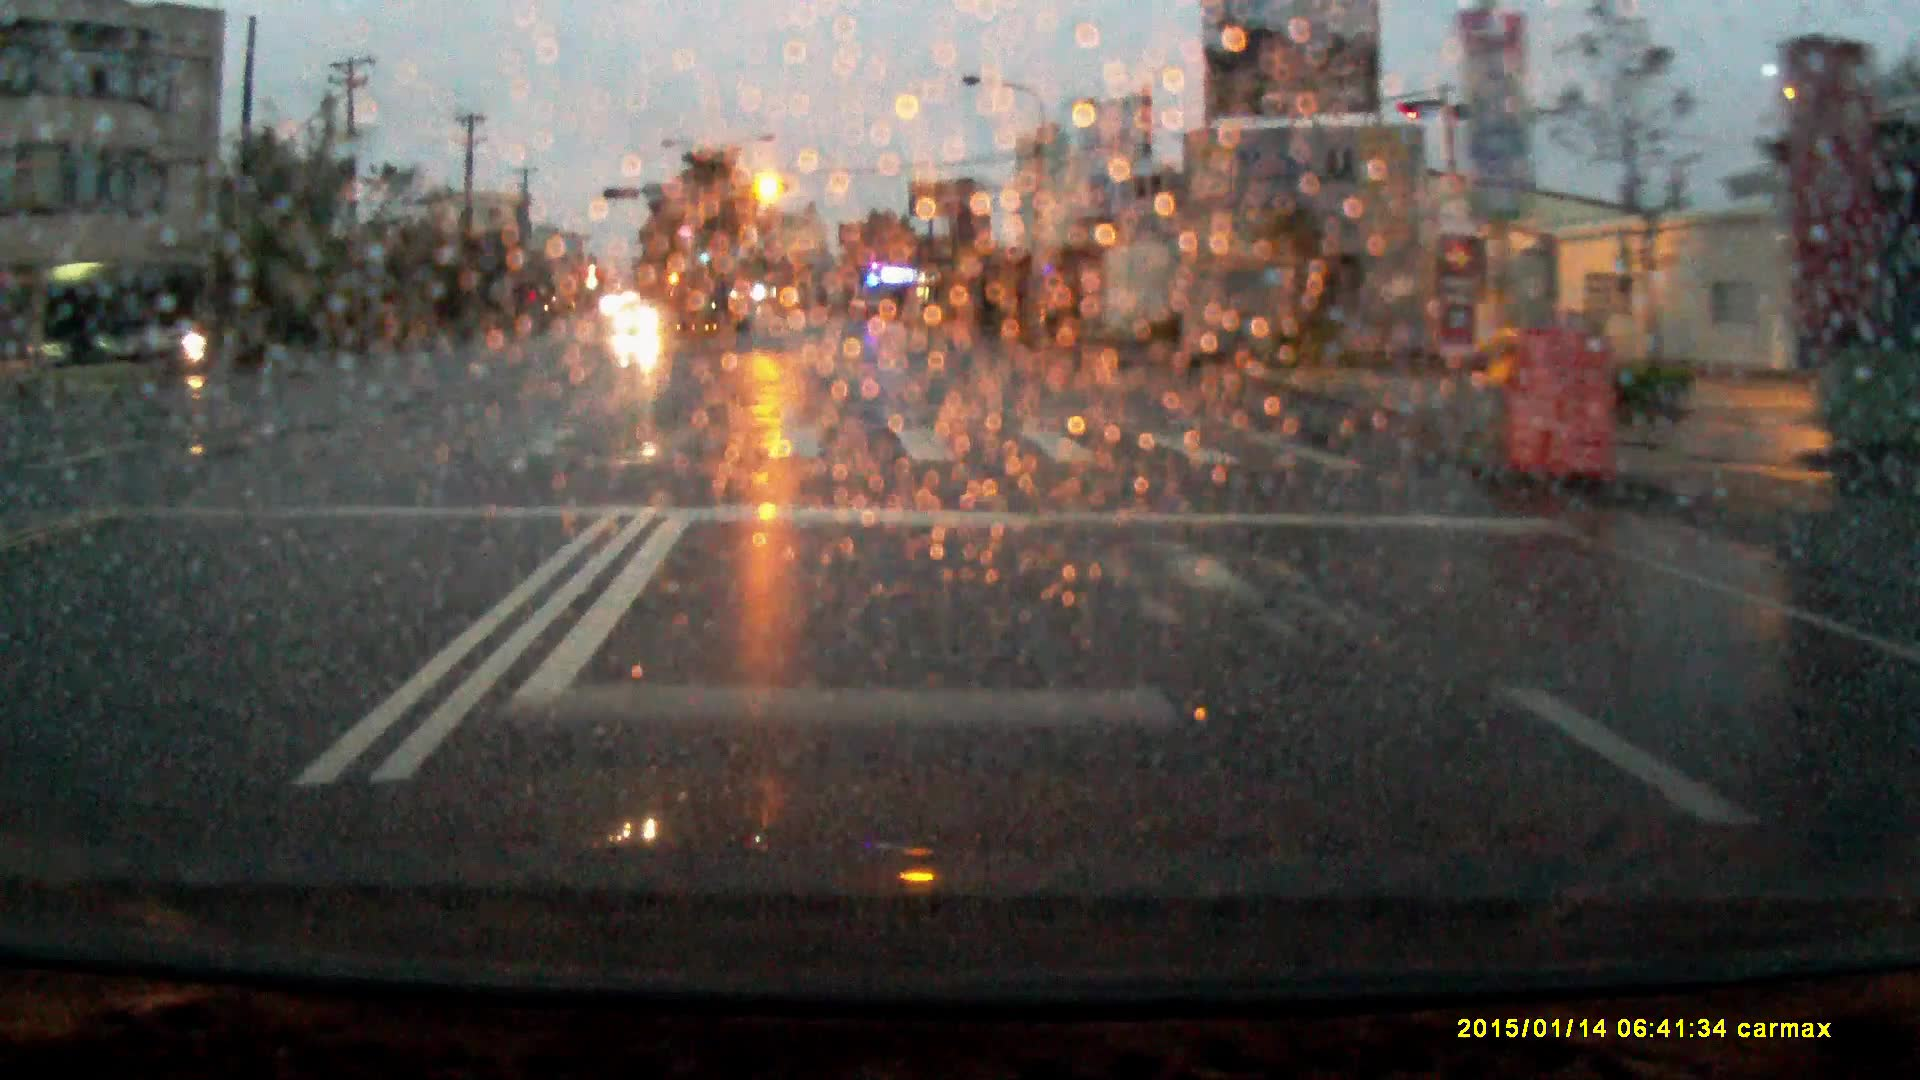rider: (177, 294, 219, 374)
vehicle: (615, 296, 664, 335)
